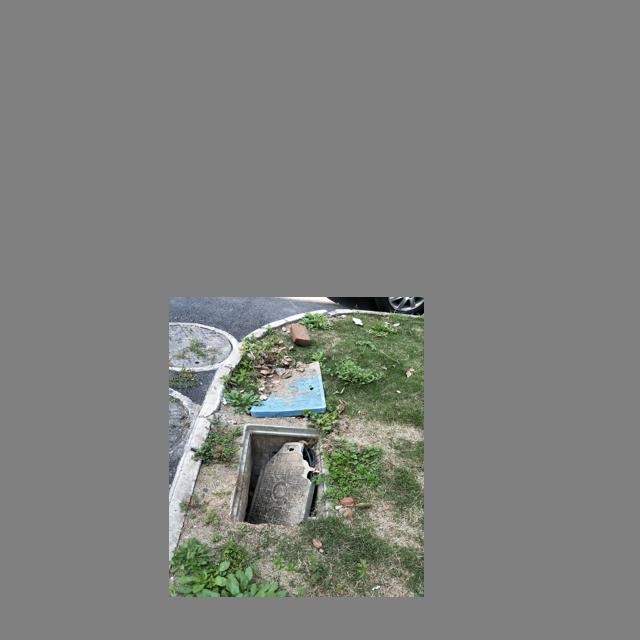broke: (225, 422, 338, 524)
